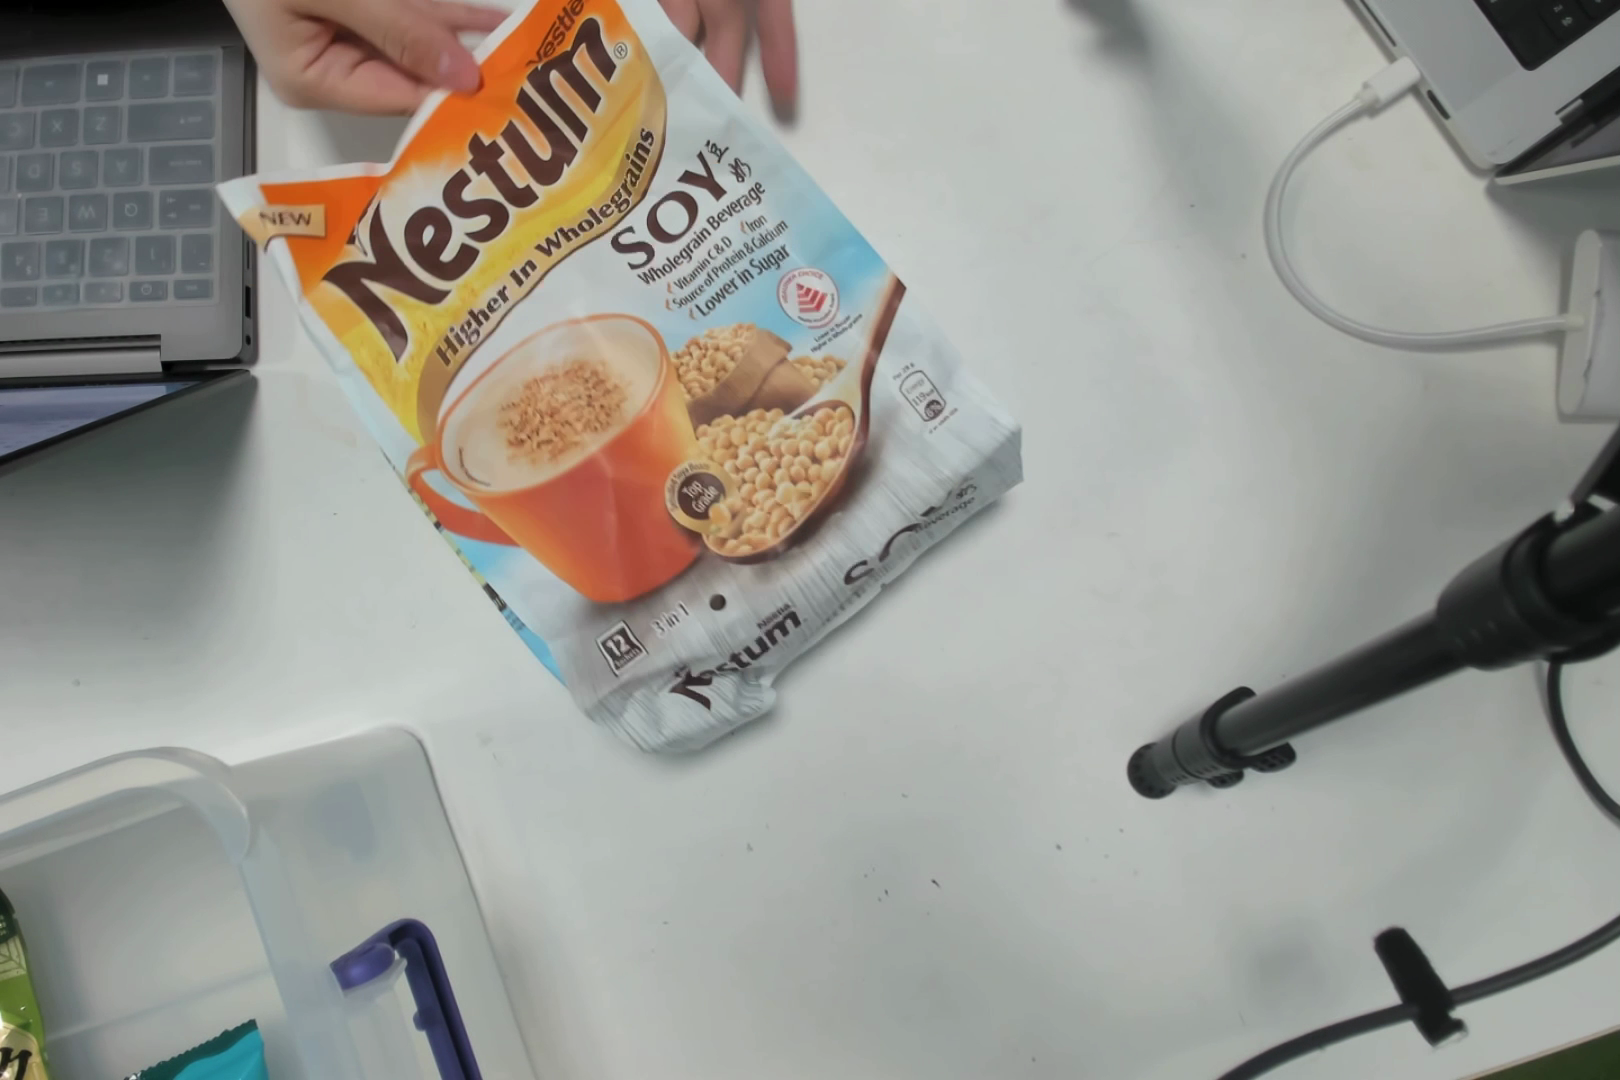e: (311, 116, 1014, 727)
